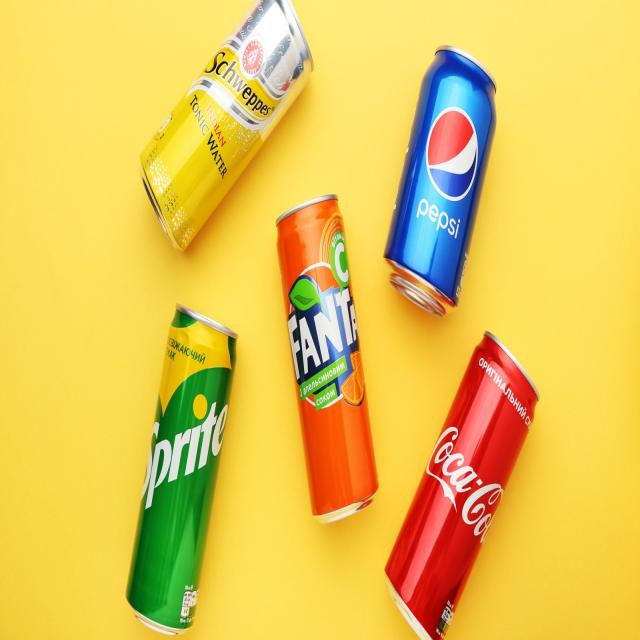cocacola: (390, 319, 537, 640)
sprite: (97, 282, 234, 625)
